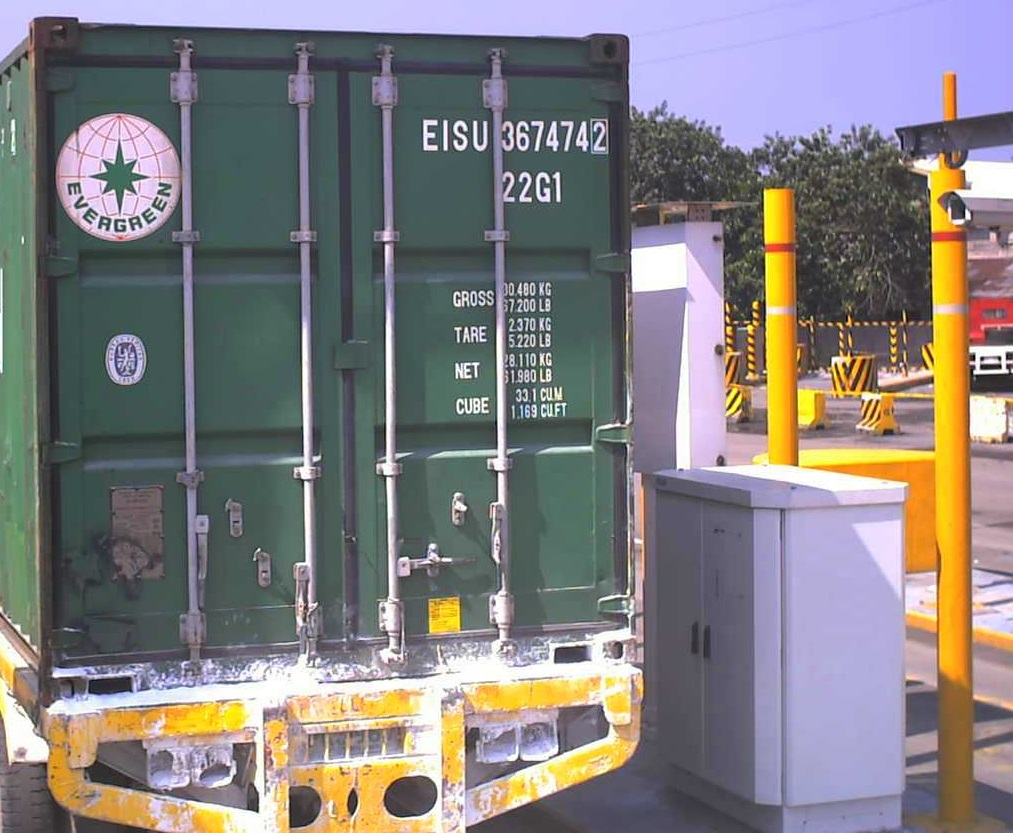container_door: (35, 16, 632, 730)
